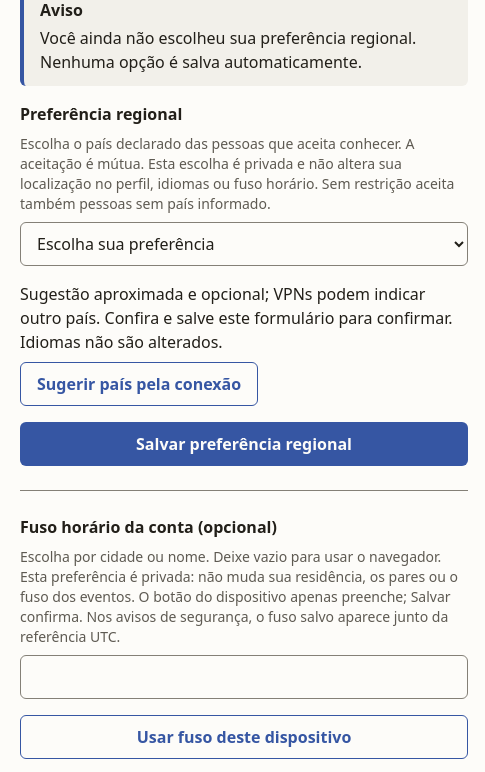
it: optional country suggestion › preselects only an untouched pending draft, requires a separate explicit save, and keeps languages unchanged
The image size is (485, 772).
(page scrolled)
Step 1. Click the button "Sugerir país pela conexão" → (139, 384), box [20,362,258,406]
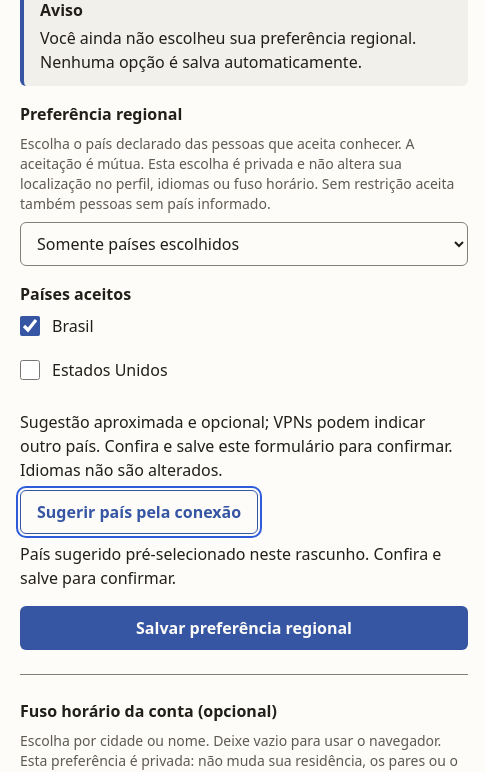
Expected: the dropdown labelled "Preferência regional" shows "Somente países escolhidos", [20,222,468,266]
Expected: the checkbox labelled "Brasil" is checked, [20,316,40,336]
Step 2. Click the button "Salvar preferência regional" → (244, 628), box [20,606,468,650]
(page scrolled)
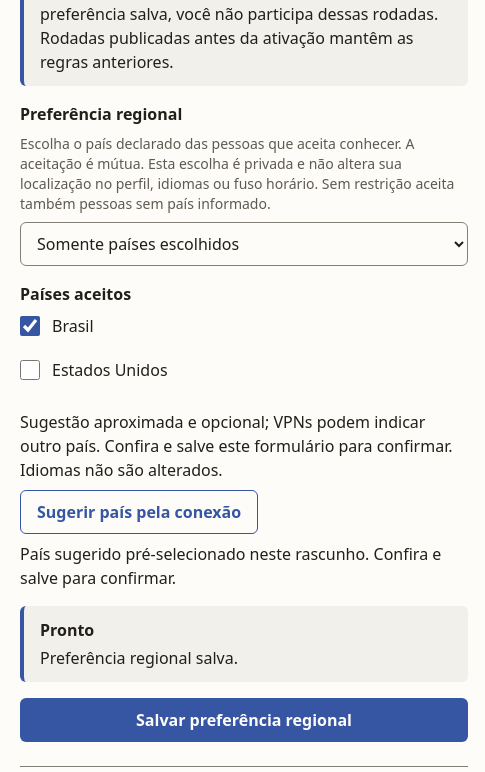
Expected: the text "Preferência regional salva." is shown, [40,647,238,669]
